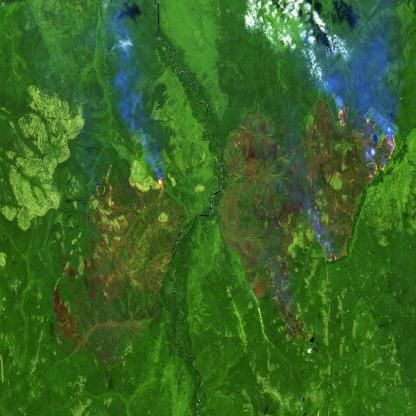fire: (336, 99, 398, 180), (315, 227, 342, 266), (89, 179, 106, 210), (154, 174, 168, 201)
